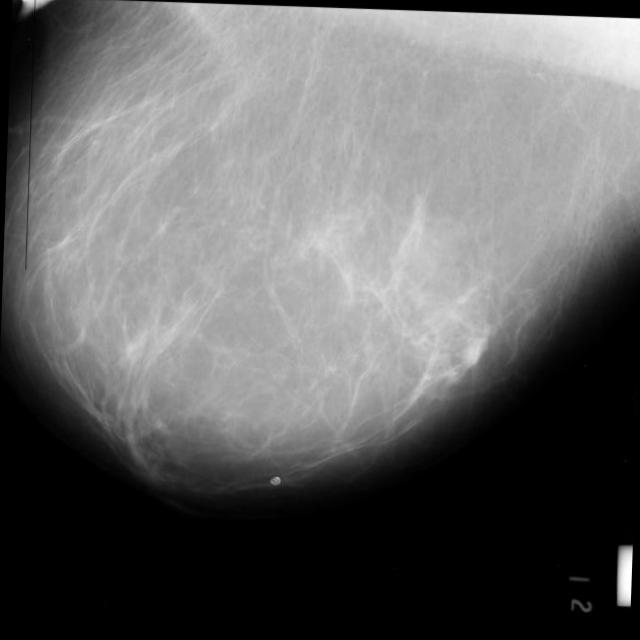CIRC: (454, 333, 492, 370)
